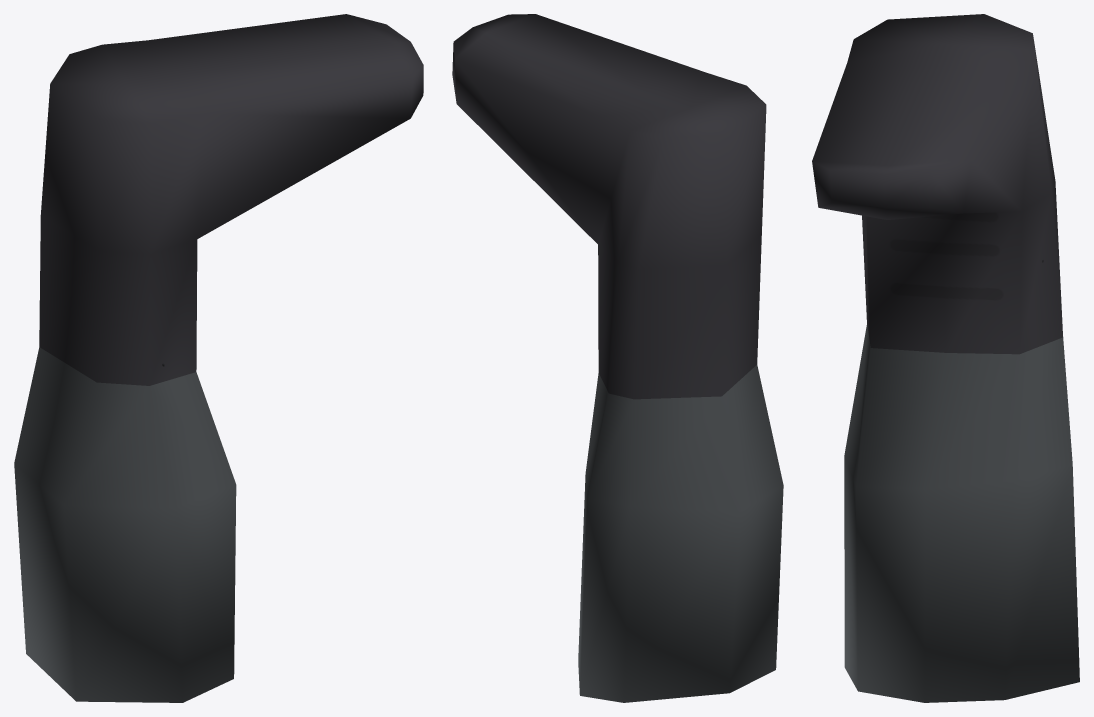
Rendered from HH_Soldier_RLegGib.fbx.
3 renders of one model, left to right at view 1: azimuth 30°, elevation 25°; view 2: azimuth 150°, elevation 25°; view 3: azimuth 270°, elevation 25°, orthographic. The views are drawn at different scales.
Parts seen in each view (by area): view 1: Mesh; view 2: Mesh; view 3: Mesh.
Boxes of the visible parts, x1,y1,x2,y2 form: Mesh: (14, 14, 423, 702); Mesh: (452, 14, 783, 702); Mesh: (812, 14, 1079, 702).
Bounding box in the file's own units: 26.56 × 44.24 × 17.25.
2 materials, 2 textured.
